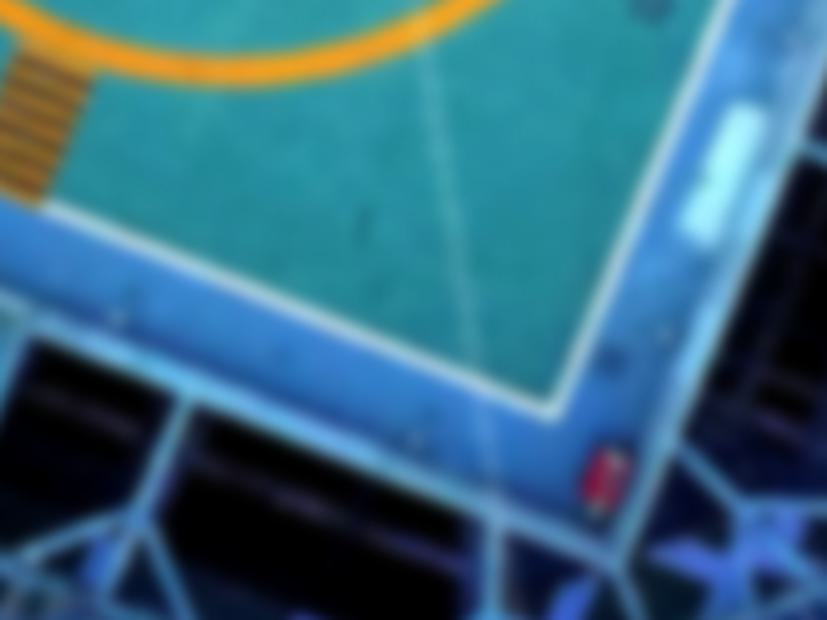Apron: (1, 1, 516, 100)
